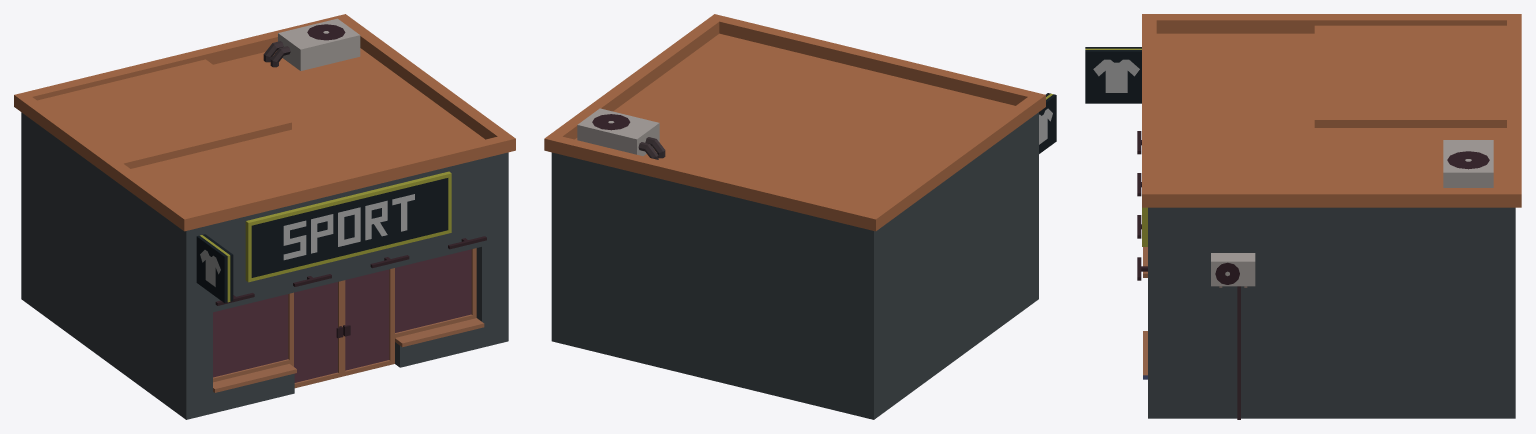
Rendered from Building_3.fbx.
The picture shows the model from 3 angles, left to right: view 1: azimuth 30°, elevation 25°; view 2: azimuth 150°, elevation 25°; view 3: azimuth 270°, elevation 25°; orthographic projection. The views are drawn at different scales.
Visible parts, largest first — view 1: Building_3, Building_3LP; view 2: Building_3; view 3: Building_3, Building_3LP.
Boxes of the visible parts, x1,y1,x2,y2 form: Building_3: [14, 14, 515, 419]; Building_3LP: [200, 171, 471, 382]; Building_3: [544, 14, 1056, 419]; Building_3: [1085, 14, 1521, 419]; Building_3LP: [1085, 48, 1147, 246].
Size of the model in its own units: 9.36 by 5.56 by 9.25.
